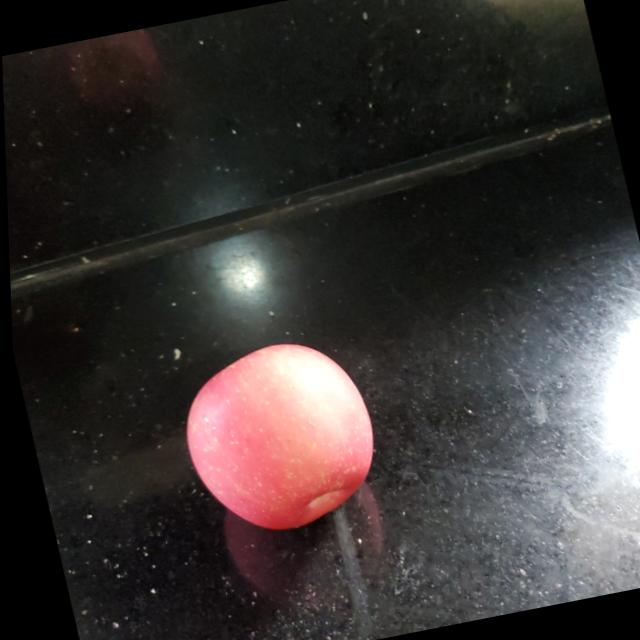apple: (164, 327, 391, 540)
